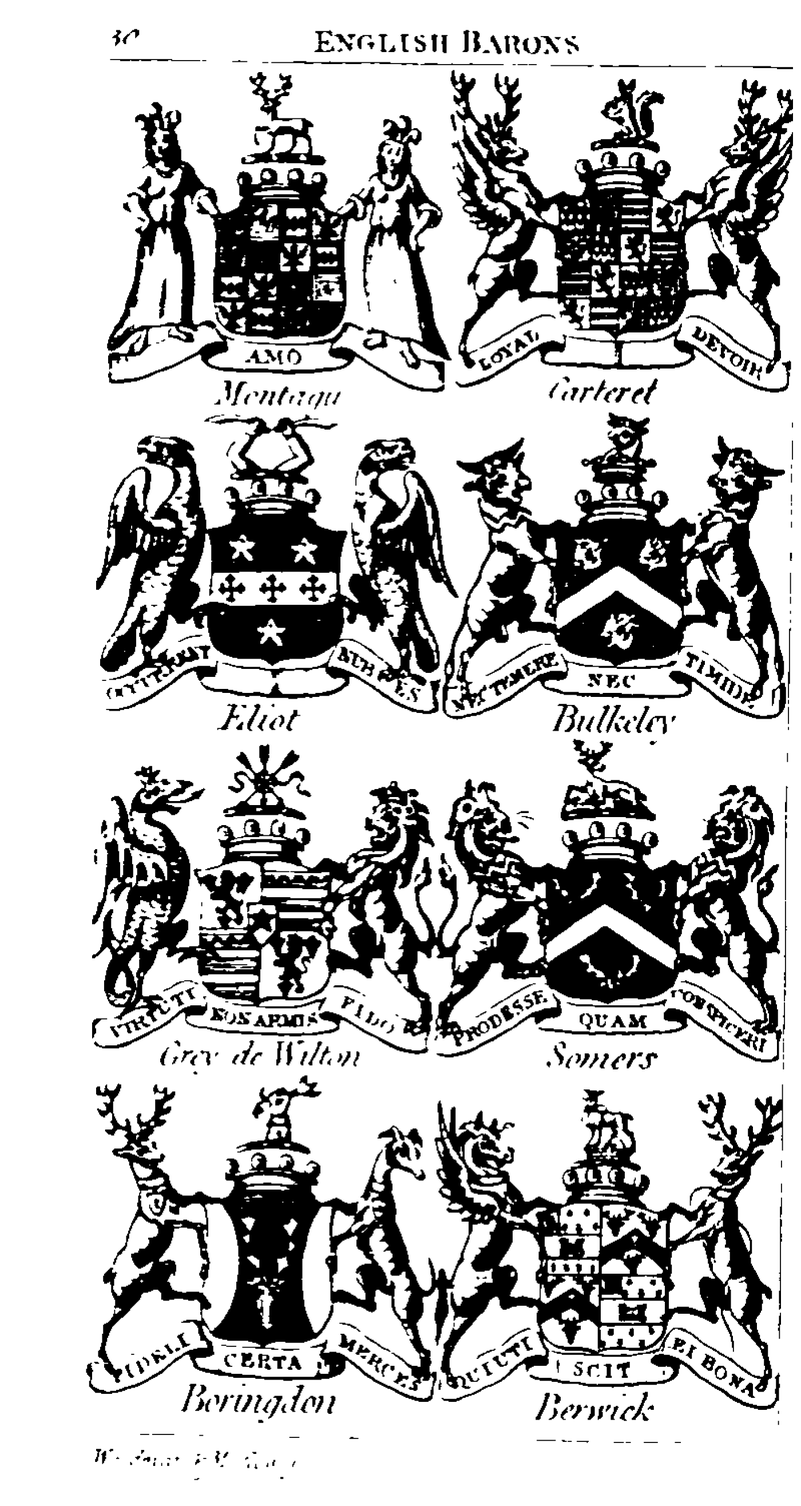coat_of_arms: (428, 1078, 801, 1430), (437, 738, 790, 1082), (449, 67, 798, 411), (88, 1081, 433, 1425), (117, 66, 451, 421), (93, 743, 437, 1085), (444, 420, 792, 743), (111, 423, 442, 744)
